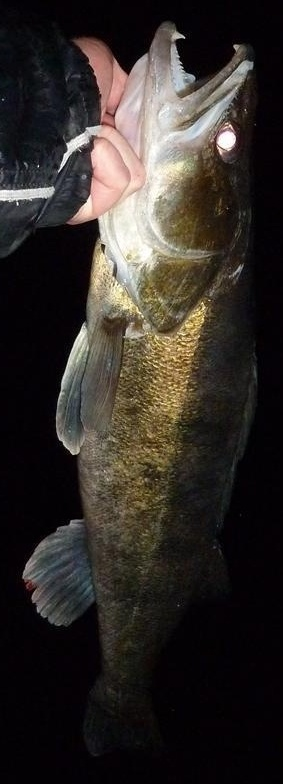Sander lucioperca: (20, 20, 263, 764)
